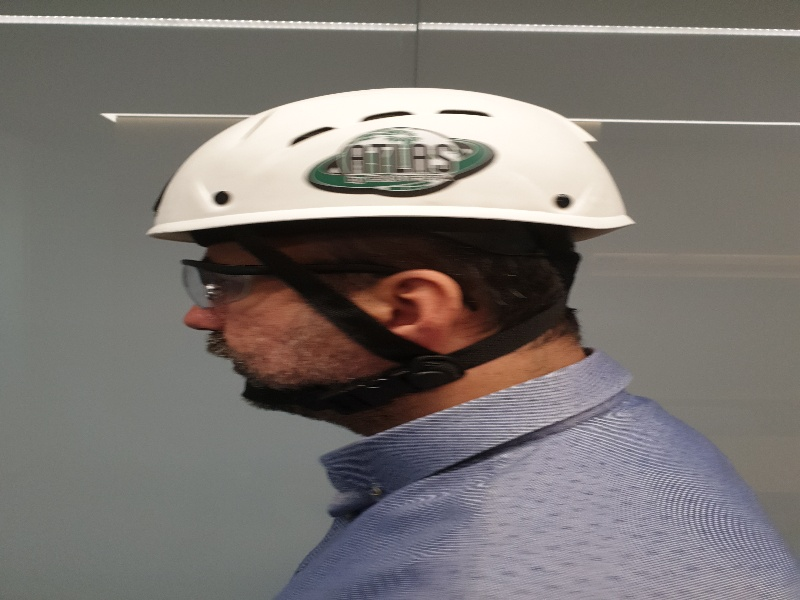Baret: (149, 89, 634, 233)
Gozluk: (178, 256, 423, 306)
